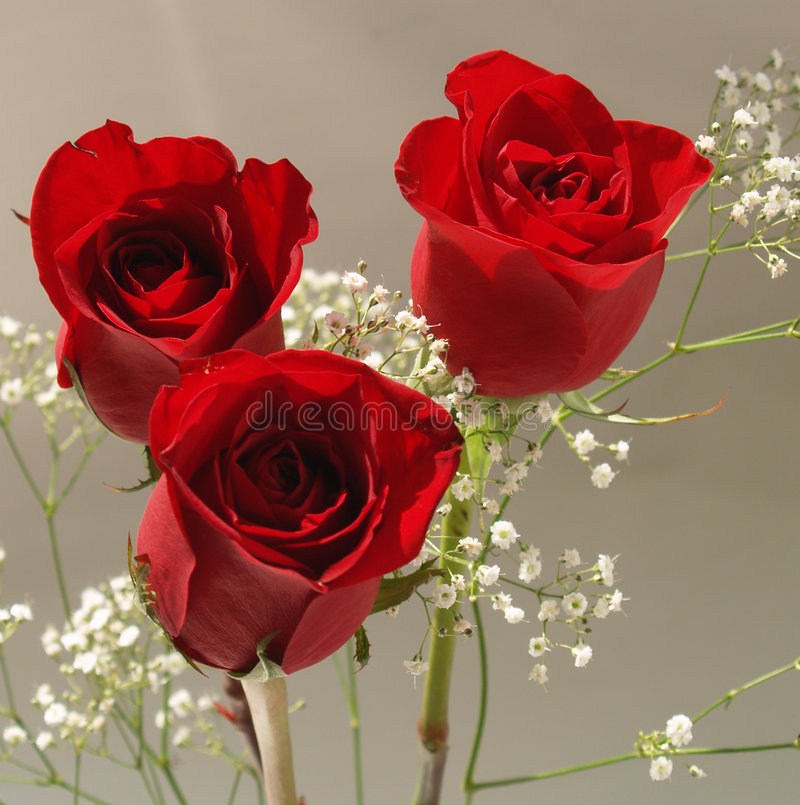RedRose: (122, 352, 482, 763), (374, 28, 708, 424), (27, 101, 335, 453)
